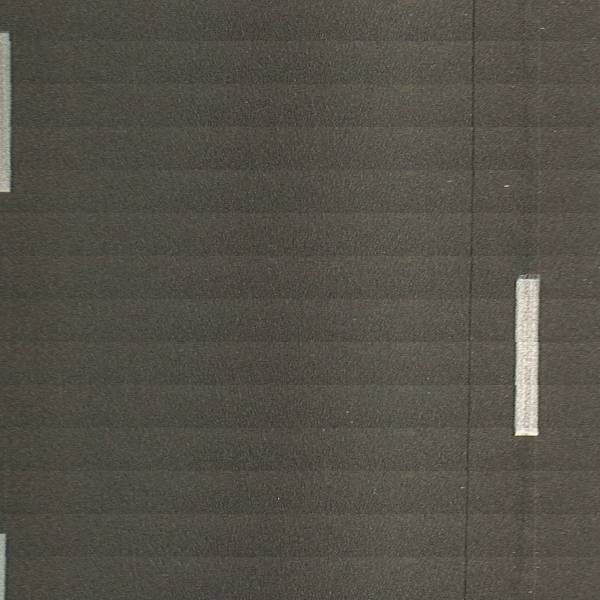road_damage: (461, 29, 475, 578)
